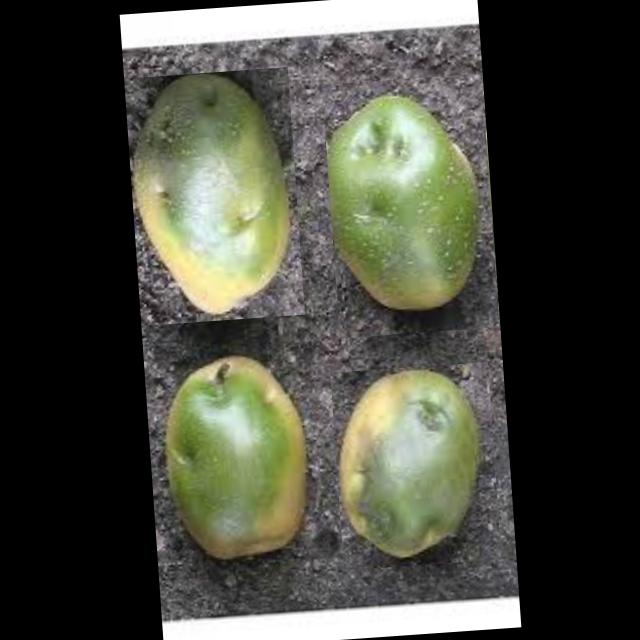Defected potato: (123, 66, 304, 324), (322, 72, 498, 337), (156, 344, 324, 566), (330, 360, 501, 569)
